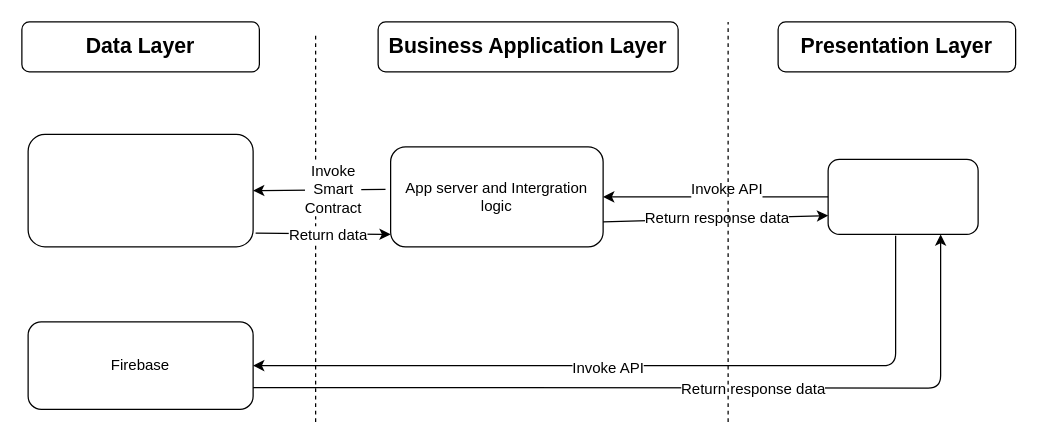
Image size: 1038x445. Some labels were removed from this diagram. Here are the shapes that lost their labels. From the top down, the centre of each, then its label:
(140,190): Hyperledger Fabric
(902,196): App
